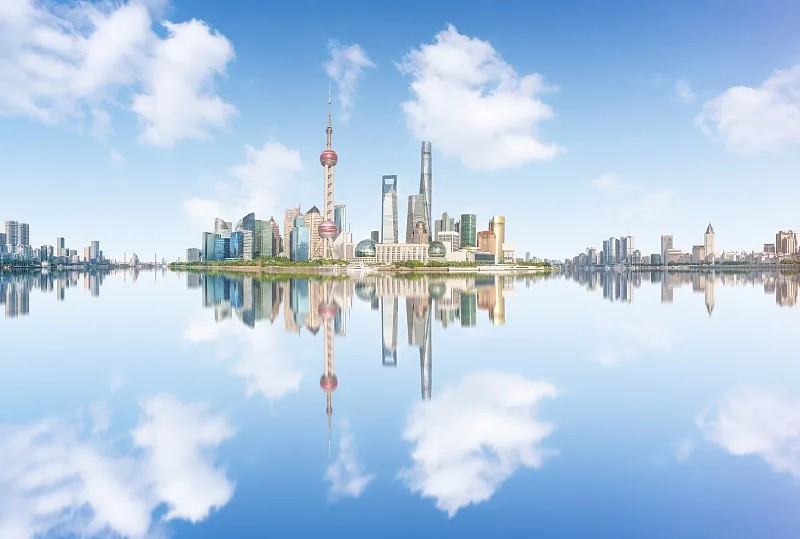Oriental: (310, 83, 338, 261)
